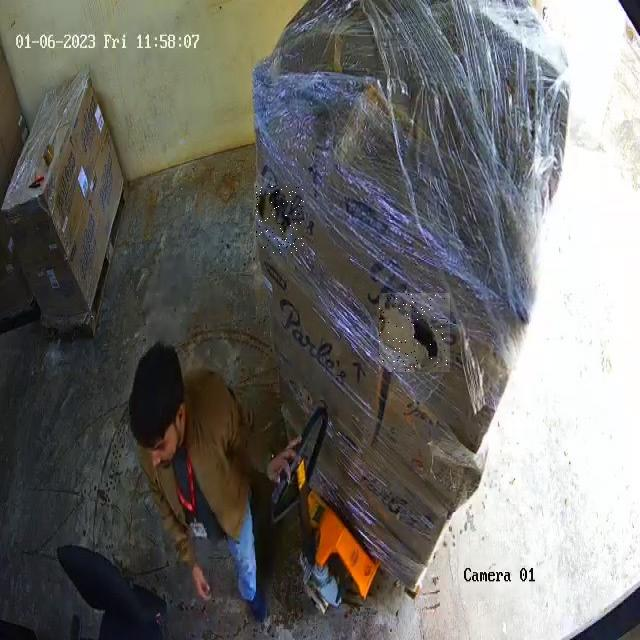leakage: (380, 293, 449, 371), (256, 187, 304, 253)
